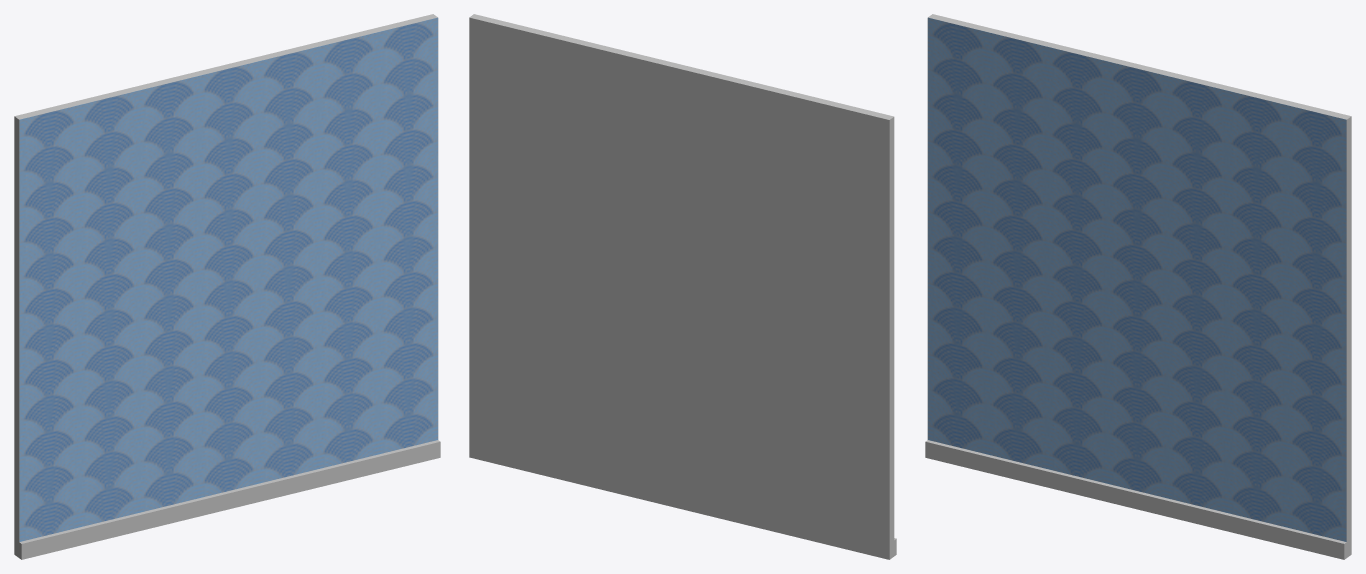
Rendered from Wall_WP_08.FBX.
The picture shows the model from 3 angles, left to right: view 1: azimuth 30°, elevation 25°; view 2: azimuth 150°, elevation 25°; view 3: azimuth 330°, elevation 25°; orthographic projection.
Parts seen in each view (by area): view 1: Wall_WP_01_5m; view 2: Wall_WP_01_5m; view 3: Wall_WP_01_5m.
Boxes of the visible parts, box(x1,y1,x2,y2) form: Wall_WP_01_5m: box(14, 14, 440, 559); Wall_WP_01_5m: box(469, 14, 896, 559); Wall_WP_01_5m: box(925, 14, 1351, 559).
Bounding box in the file's own units: 19685 × 19685 × 591.
